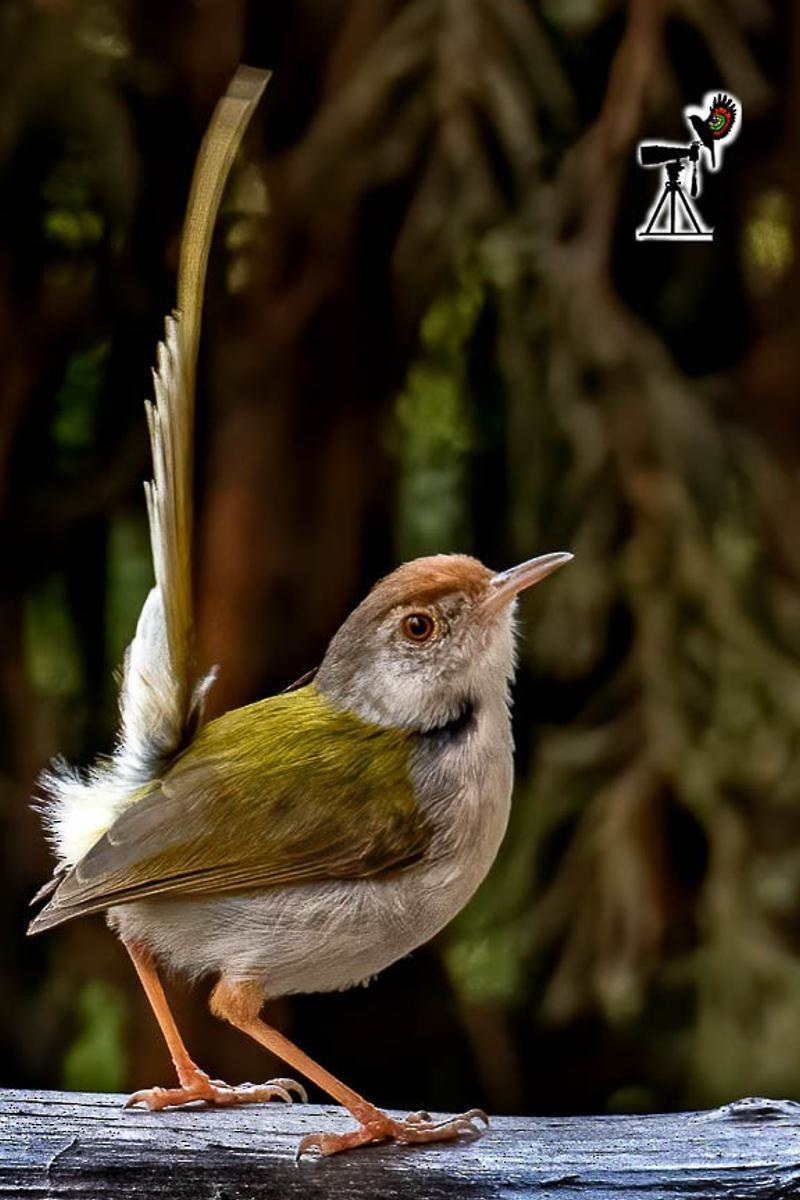tailorbird: (56, 489, 585, 1144)
